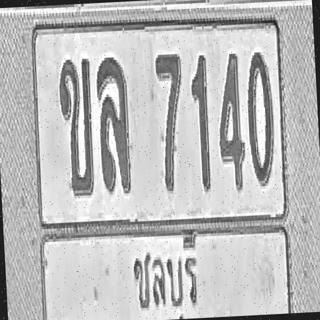A02: (57, 56, 96, 196)
A36: (95, 55, 132, 194)
N00: (245, 49, 276, 184)
N01: (189, 52, 212, 192)
N04: (215, 51, 246, 191)
N07: (154, 52, 187, 192)
P13: (125, 218, 204, 320)
